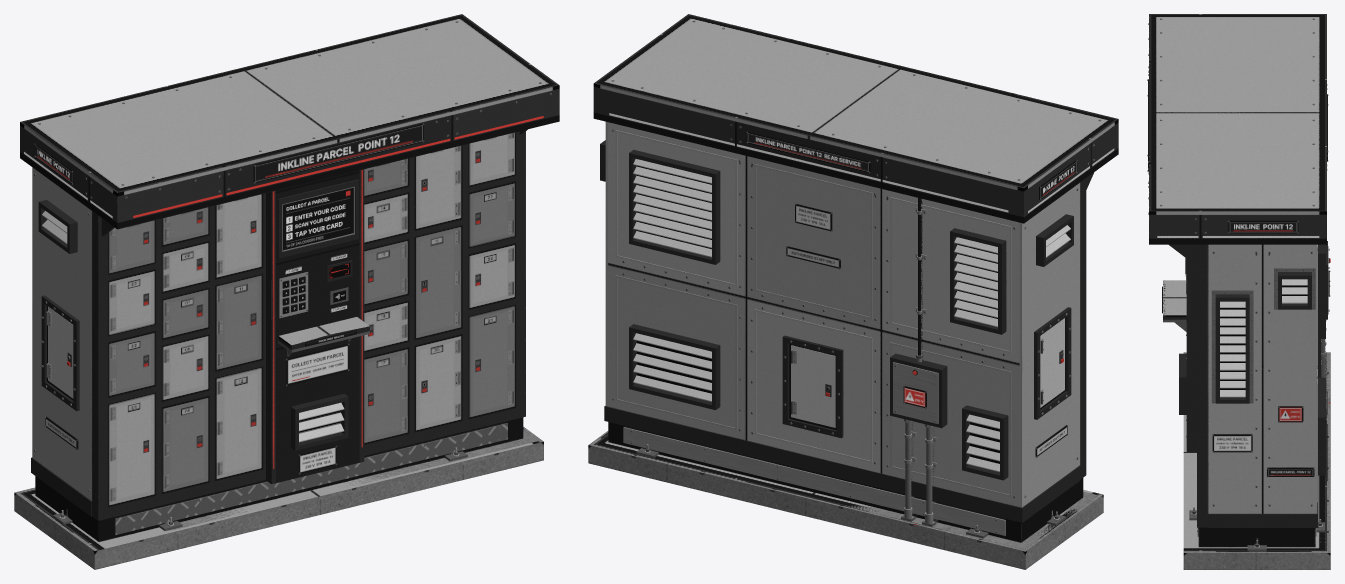
The model's file is parcellocker-BVBLRzFJ.glb.
3 views of the same model, side by side, from view 1: azimuth 30°, elevation 25°; view 2: azimuth 150°, elevation 25°; view 3: azimuth 270°, elevation 25° (orthographic). The views are drawn at different scales.
Visible parts, largest first — view 1: farBaked, body, glow; view 2: body, farBaked, glow; view 3: farBaked, body, glow.
Boxes of the visible parts, x1,y1,x2,y2 form: farBaked: (14, 14, 559, 569); body: (14, 19, 559, 569); glow: (24, 116, 543, 468); body: (588, 19, 1118, 568); farBaked: (588, 14, 1118, 569); glow: (609, 113, 1114, 406); farBaked: (1149, 14, 1330, 569); body: (1147, 17, 1330, 569); glow: (1157, 222, 1330, 262).
Bounding box in the file's own units: 2.52 × 2.09 × 0.9732.
3 materials, 3 textured.
